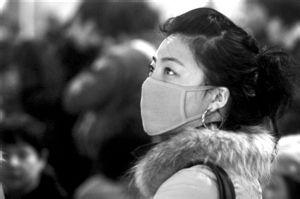NONE: (1, 146, 35, 187)
OK: (141, 56, 225, 136)
